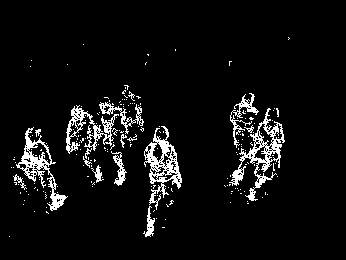person: (142, 123, 183, 239), (20, 126, 67, 212), (250, 104, 285, 205), (229, 90, 259, 190), (67, 105, 104, 184), (98, 97, 129, 186), (117, 85, 144, 154)
